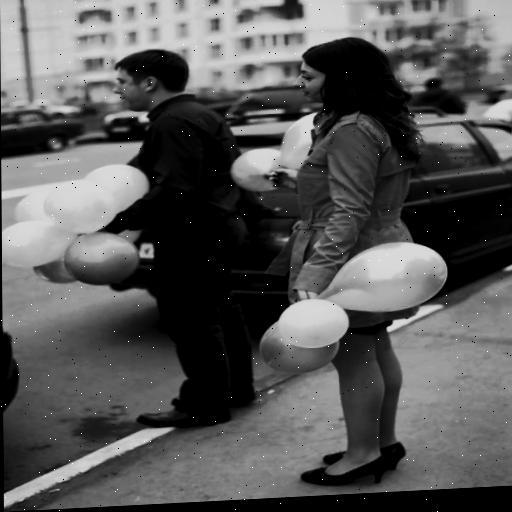balloon: (337, 237, 444, 316), (252, 318, 339, 374), (68, 229, 143, 285), (72, 164, 153, 215), (45, 177, 118, 230), (3, 220, 75, 269), (282, 109, 332, 172), (284, 299, 347, 346), (231, 146, 287, 193), (12, 185, 77, 225)
